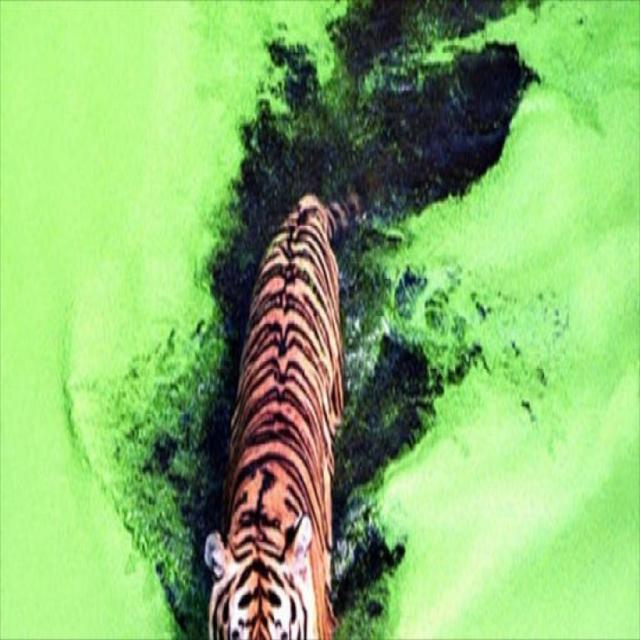Tiger: (210, 179, 375, 638)
